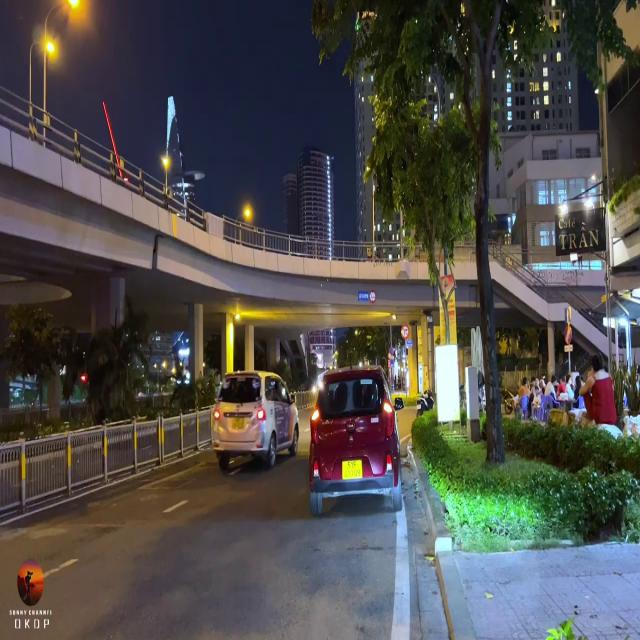bien_vang: (340, 462, 362, 482)
